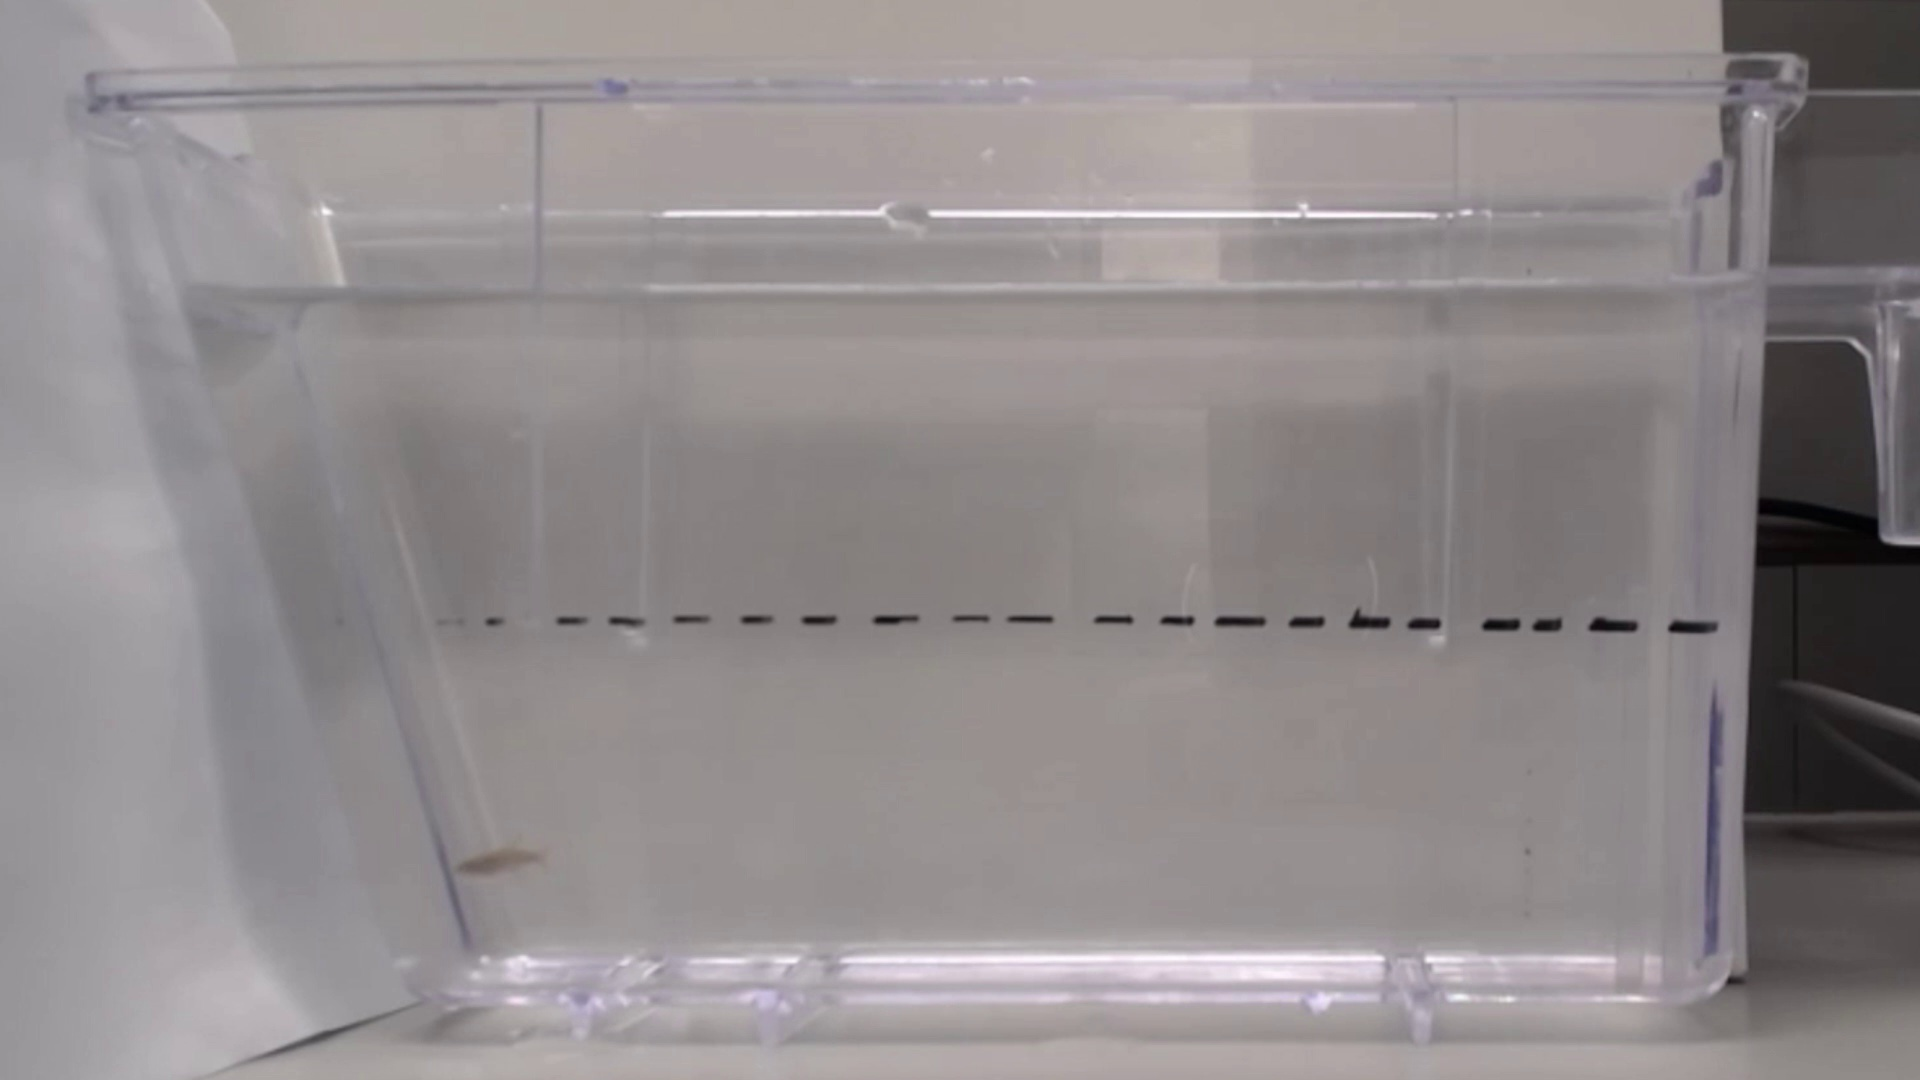blackline: (444, 591, 1730, 665)
zebrafish: (447, 831, 562, 891)
